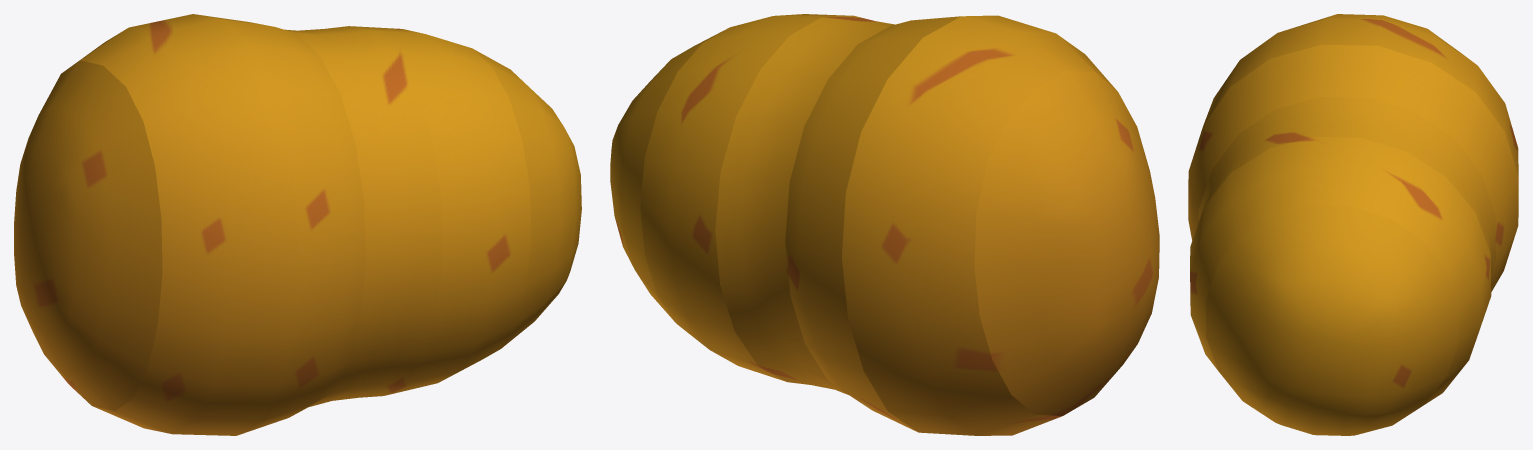
File: Potato_01_Sliced.fbx
3 views of the same model, side by side, from view 1: azimuth 30°, elevation 25°; view 2: azimuth 150°, elevation 25°; view 3: azimuth 270°, elevation 25° (orthographic). The views are drawn at different scales.
Visible parts, largest first — view 1: Potato_01_P4, Potato_P5, Potato_01_P1, Potato_01_P2, Potato_01_P3, Potato_01_Sliced; view 2: Potato_01_P4, Potato_P5, Potato_01_P2, Potato_01_P1, Potato_01_P3, Potato_01_Sliced; view 3: Potato_01_Sliced, Potato_01_P1, Potato_01_P3, Potato_01_P2, Potato_01_P4.
Boxes of the visible parts, <box> form: Potato_01_P4: <box>79,14,298,435</box>; Potato_P5: <box>14,60,162,410</box>; Potato_01_P1: <box>349,26,531,395</box>; Potato_01_P2: <box>285,26,442,406</box>; Potato_01_P3: <box>196,14,365,435</box>; Potato_01_Sliced: <box>472,48,581,348</box>; Potato_01_P4: <box>842,15,1116,435</box>; Potato_P5: <box>974,71,1159,415</box>; Potato_01_P2: <box>715,16,894,394</box>; Potato_01_P1: <box>640,14,853,381</box>; Potato_01_P3: <box>785,16,960,431</box>; Potato_01_Sliced: <box>610,28,727,322</box>; Potato_01_Sliced: <box>1206,205,1458,435</box>; Potato_01_P1: <box>1190,136,1491,404</box>; Potato_01_P3: <box>1188,44,1518,291</box>; Potato_01_P2: <box>1198,97,1495,272</box>; Potato_01_P4: <box>1203,14,1518,176</box>.
Size of the model in its own units: 60.89 by 43.06 by 39.91.
